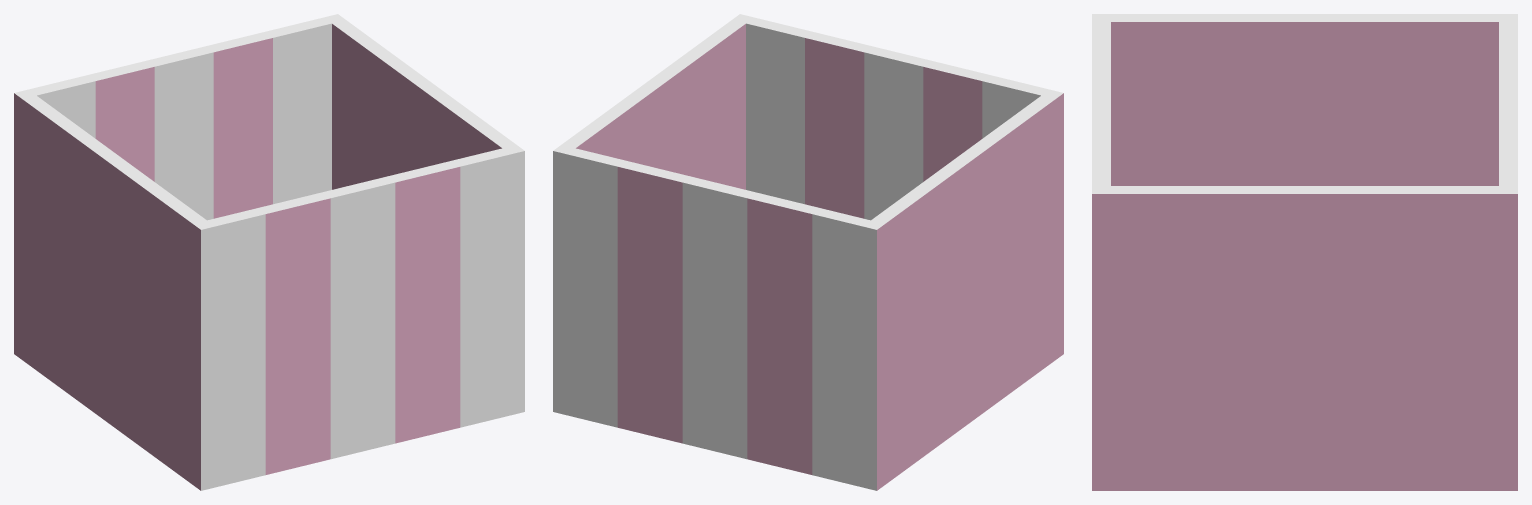
File: Giftbox4-1.fbx
The picture shows the model from 3 angles, left to right: view 1: azimuth 30°, elevation 25°; view 2: azimuth 150°, elevation 25°; view 3: azimuth 270°, elevation 25°; orthographic projection. The views are drawn at different scales.
Parts seen in each view (by area): view 1: Box007; view 2: Box007; view 3: Box007.
Boxes of the visible parts, x1,y1,x2,y2 form: Box007: [14, 14, 524, 490]; Box007: [553, 14, 1063, 490]; Box007: [1092, 14, 1517, 490].
Bounding box in the file's own units: 20 × 15.4 × 20.
